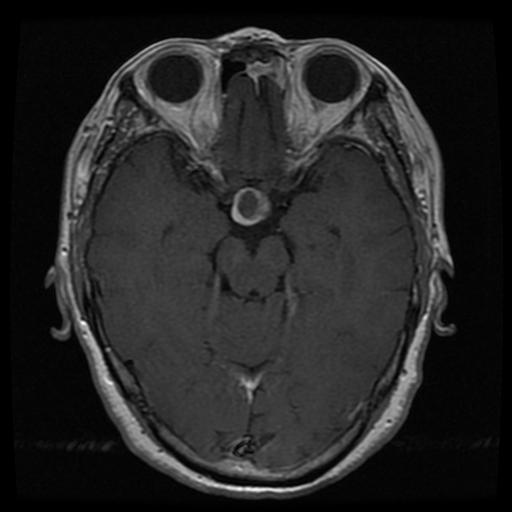Pituirity_tumour: (231, 185, 272, 225)
